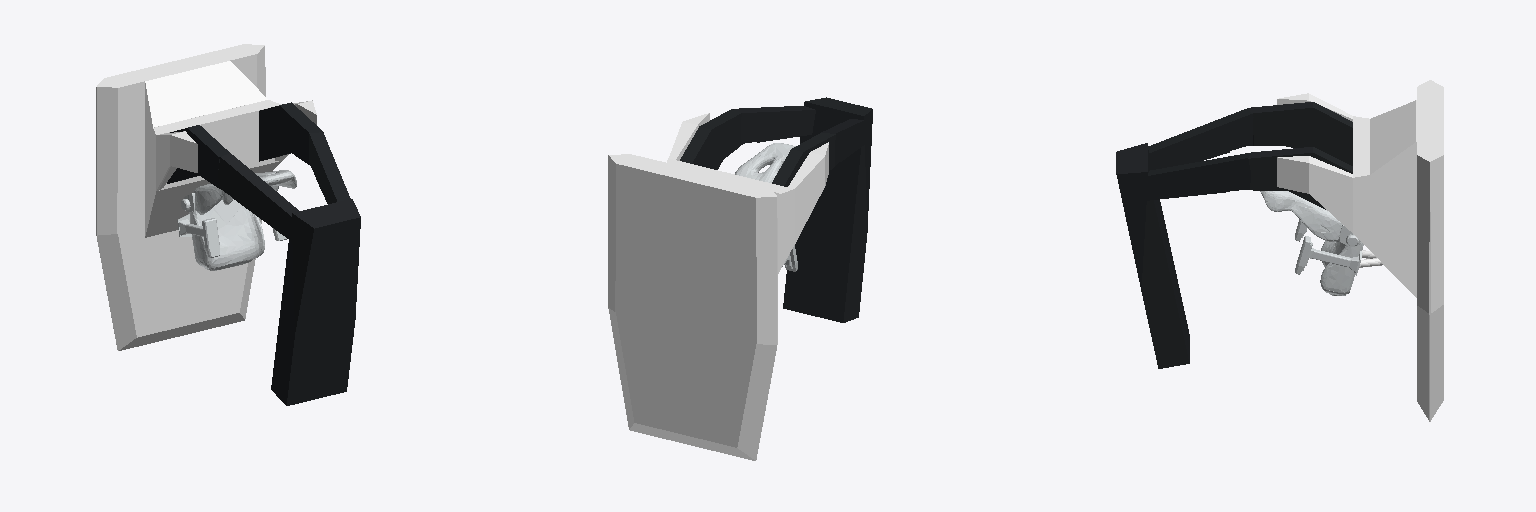
Rendered from tinker.obj.
The picture shows the model from 3 angles: view 1: azimuth 30°, elevation 25°; view 2: azimuth 150°, elevation 25°; view 3: azimuth 270°, elevation 25°; orthographic projection.
Visible parts, largest first — view 1: obj_0; view 2: obj_0; view 3: obj_0.
Part boxes in pixels (left/top/right/bottom): obj_0: left=96, top=44, right=360, bottom=405; obj_0: left=608, top=97, right=872, bottom=460; obj_0: left=1116, top=80, right=1443, bottom=421.
Size of the model in its own units: 123 by 188 by 206.